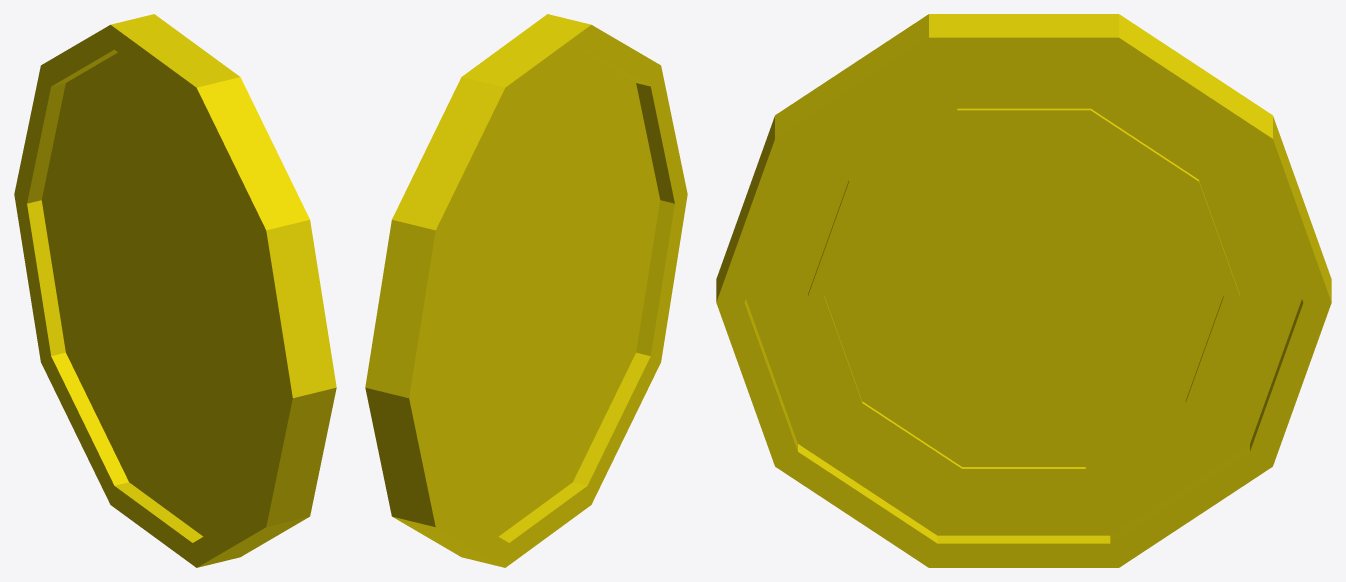
File: Coin.FBX
3 views of the same model, side by side, from view 1: azimuth 30°, elevation 25°; view 2: azimuth 150°, elevation 25°; view 3: azimuth 270°, elevation 25° (orthographic). The views are drawn at different scales.
Visible parts, largest first — view 1: Cylinder002; view 2: Cylinder002; view 3: Cylinder002.
Part boxes in pixels (x1=…): Cylinder002: x1=14, y1=14, x2=336, y2=567; Cylinder002: x1=365, y1=14, x2=687, y2=567; Cylinder002: x1=716, y1=14, x2=1331, y2=567.
Bounding box in the file's own units: 0.6643 × 6.95 × 7.31.
